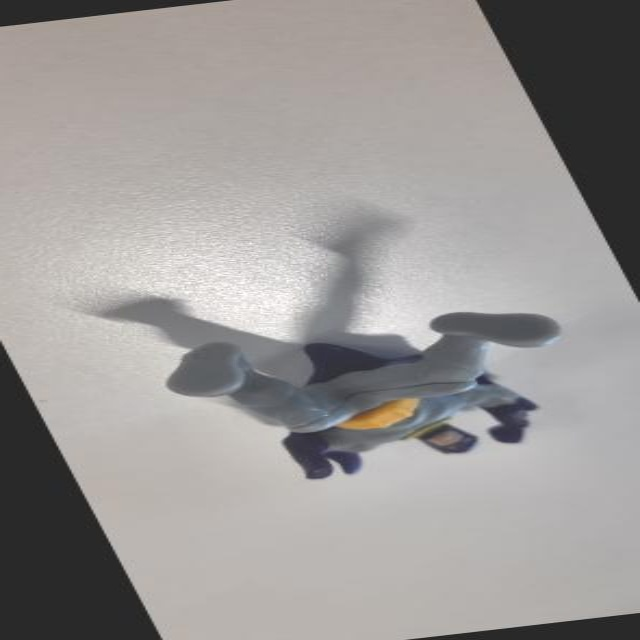Batman: (143, 302, 625, 496)
